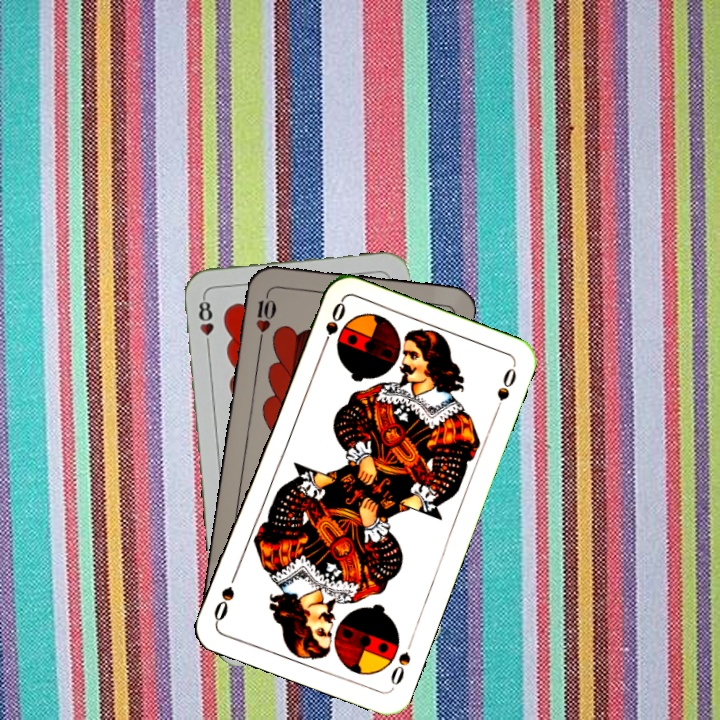H10: (252, 286, 279, 345)
H8: (195, 293, 216, 352)
SO: (316, 298, 348, 354), (386, 647, 414, 691)
